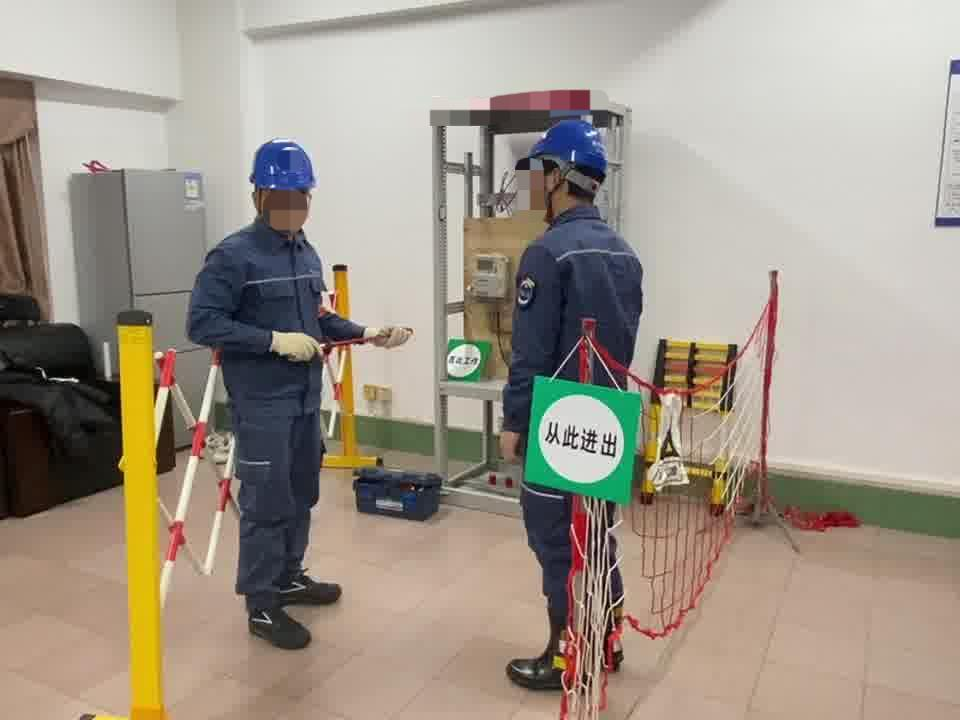halt: (521, 122, 612, 217), (250, 139, 322, 232)
inear: (541, 160, 572, 210)
